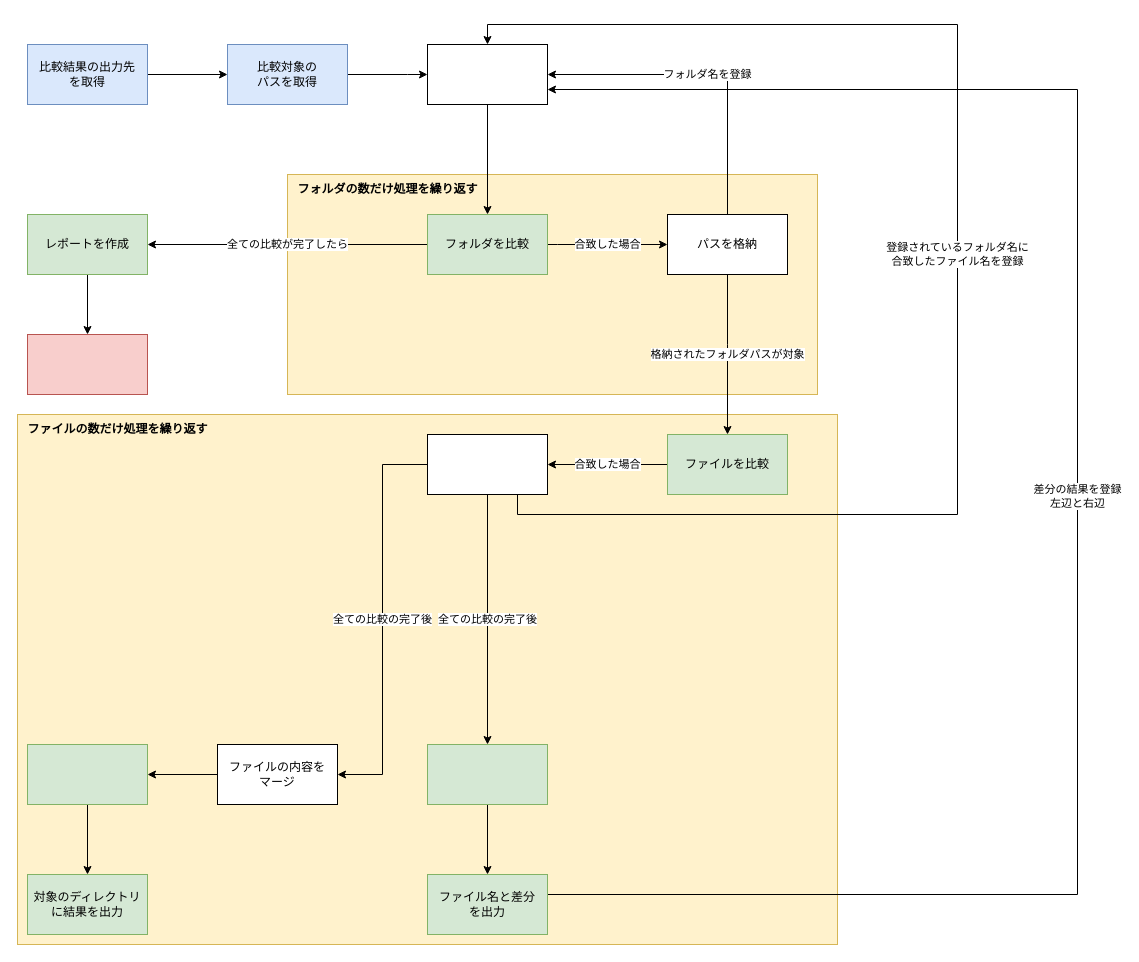
The diagram is 1139 pixels wide and 962 high, and some of its shapes have lost their labels. Each missing label, with the box of its shape:
おしまい: (26, 334, 148, 394)
ファイルを比較(list): (426, 744, 548, 804)
ファイル名を格納: (426, 434, 548, 494)
レポート用の変数 を宣言: (426, 44, 548, 104)
内容を比較(html): (26, 744, 148, 804)
